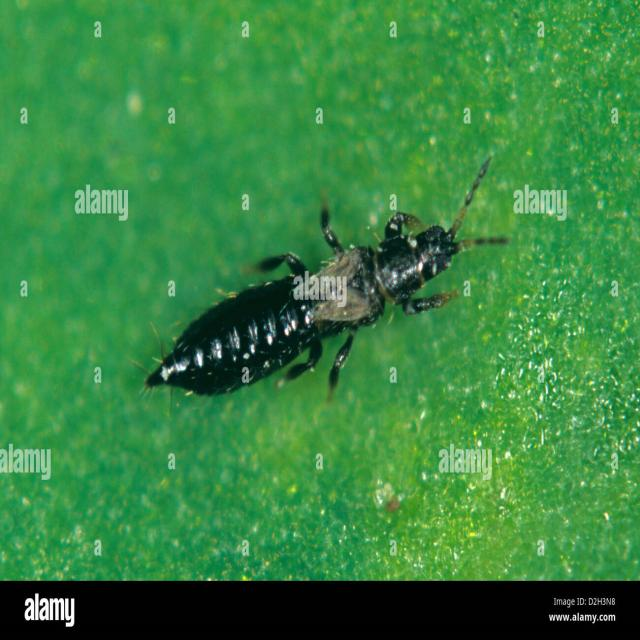Thrip-Adult-: (120, 147, 518, 425)
